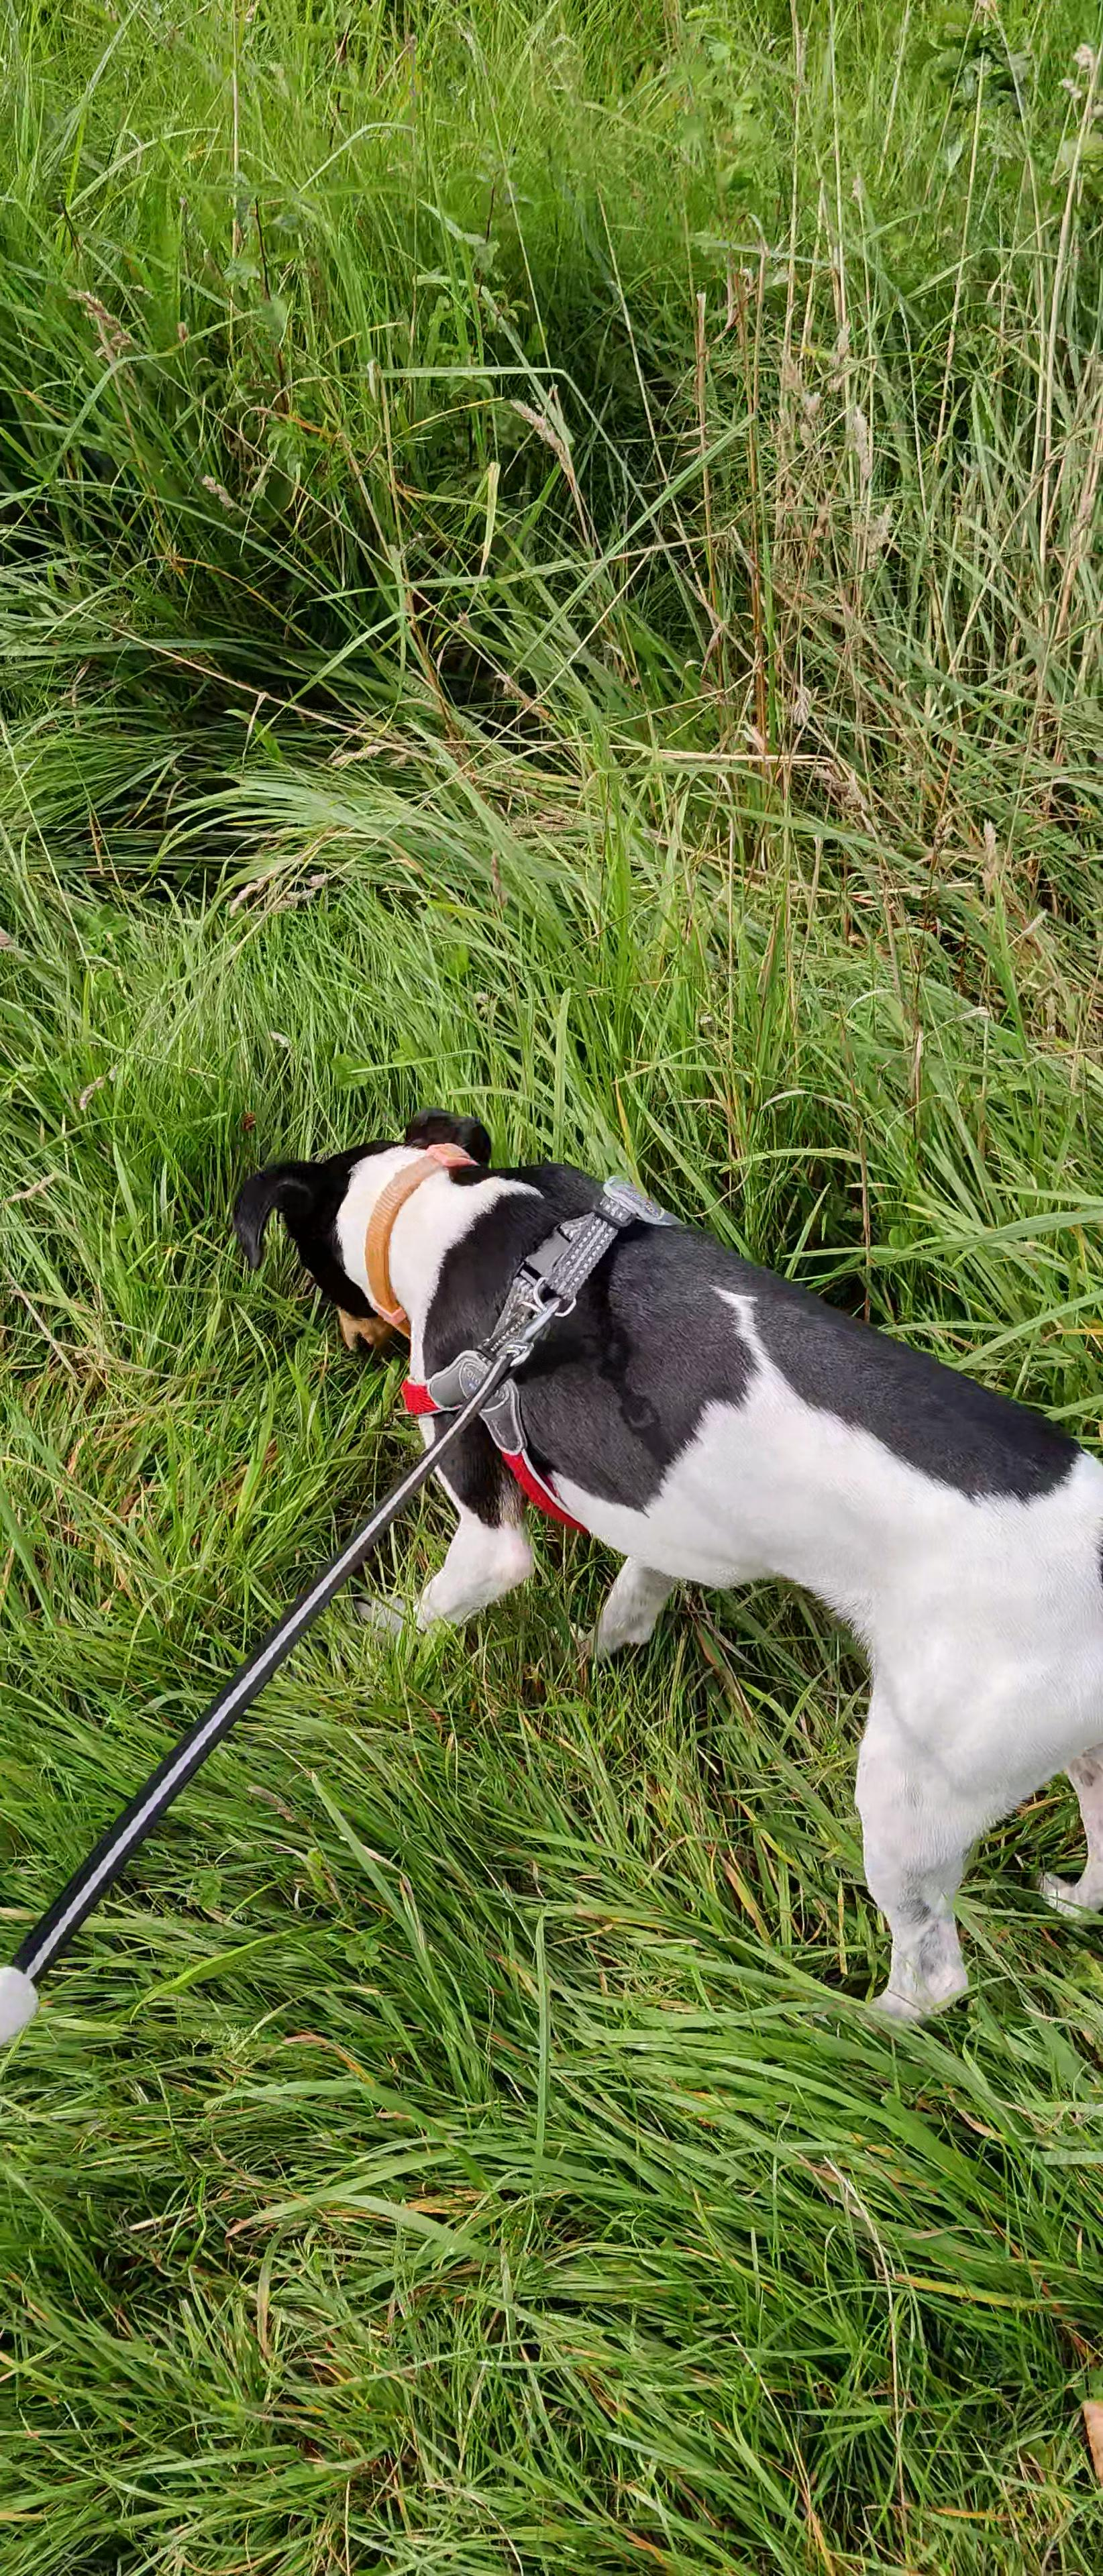Dog: (222, 1101, 1103, 2026)
